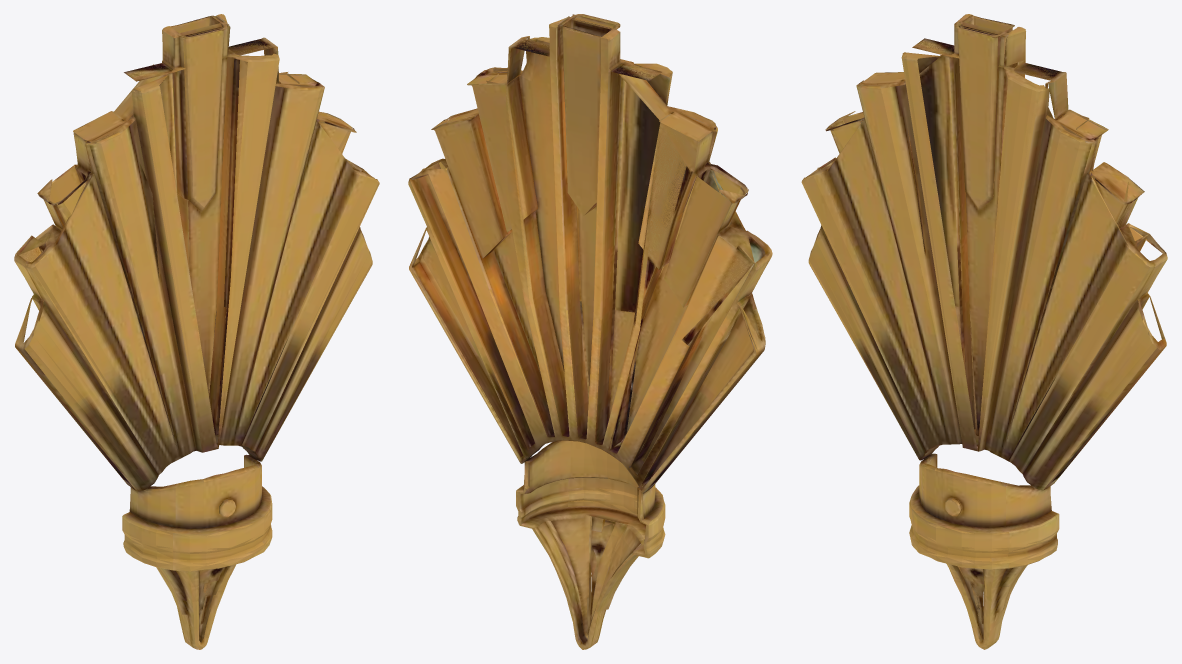
Rendered from sconce_deco.glb.
3 renders of one model, left to right at view 1: azimuth 30°, elevation 25°; view 2: azimuth 150°, elevation 25°; view 3: azimuth 330°, elevation 25°, orthographic.
Parts seen in each view (by area): view 1: mesh_node; view 2: mesh_node; view 3: mesh_node.
Part boxes in pixels (x1,y1,x2,y2): mesh_node: (14, 14, 379, 649); mesh_node: (408, 14, 772, 649); mesh_node: (801, 14, 1167, 649).
Bounding box in the file's own units: 1.12 × 1.91 × 0.2466.
Materials: 1 (1 with a texture image).
